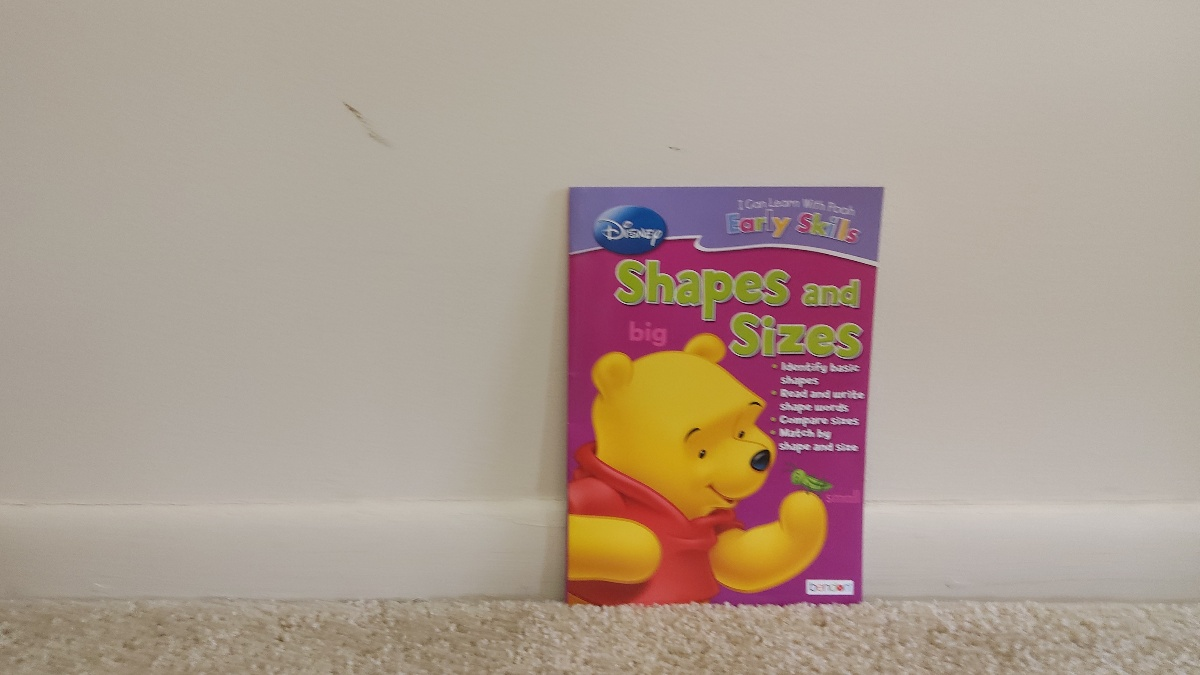book: (567, 188, 860, 605)
